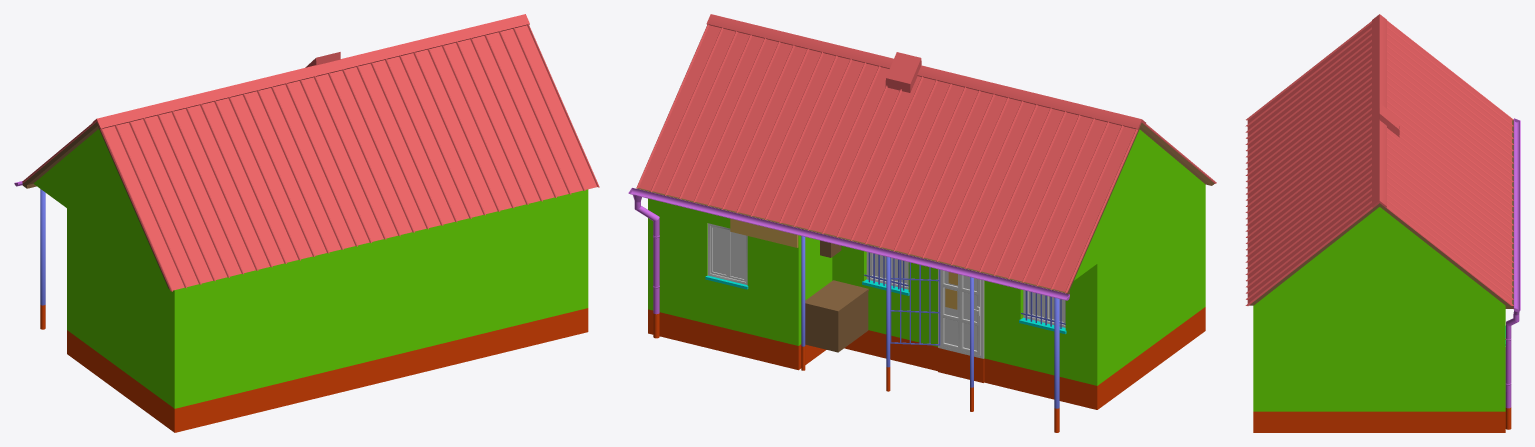
Rendered from coopjednota.fbx.
3 renders of one model, left to right at view 1: azimuth 30°, elevation 25°; view 2: azimuth 150°, elevation 25°; view 3: azimuth 270°, elevation 25°, orthographic. The views are drawn at different scales.
Parts seen in each view (by area): view 1: Plane.011; view 2: Plane.011; view 3: Plane.011.
Boxes of the visible parts, bbox=[...] form: Plane.011: bbox=[14, 14, 599, 432]; Plane.011: bbox=[628, 14, 1216, 432]; Plane.011: bbox=[1245, 14, 1520, 432].
Size of the model in its own units: 1965 by 1171 by 1204.
